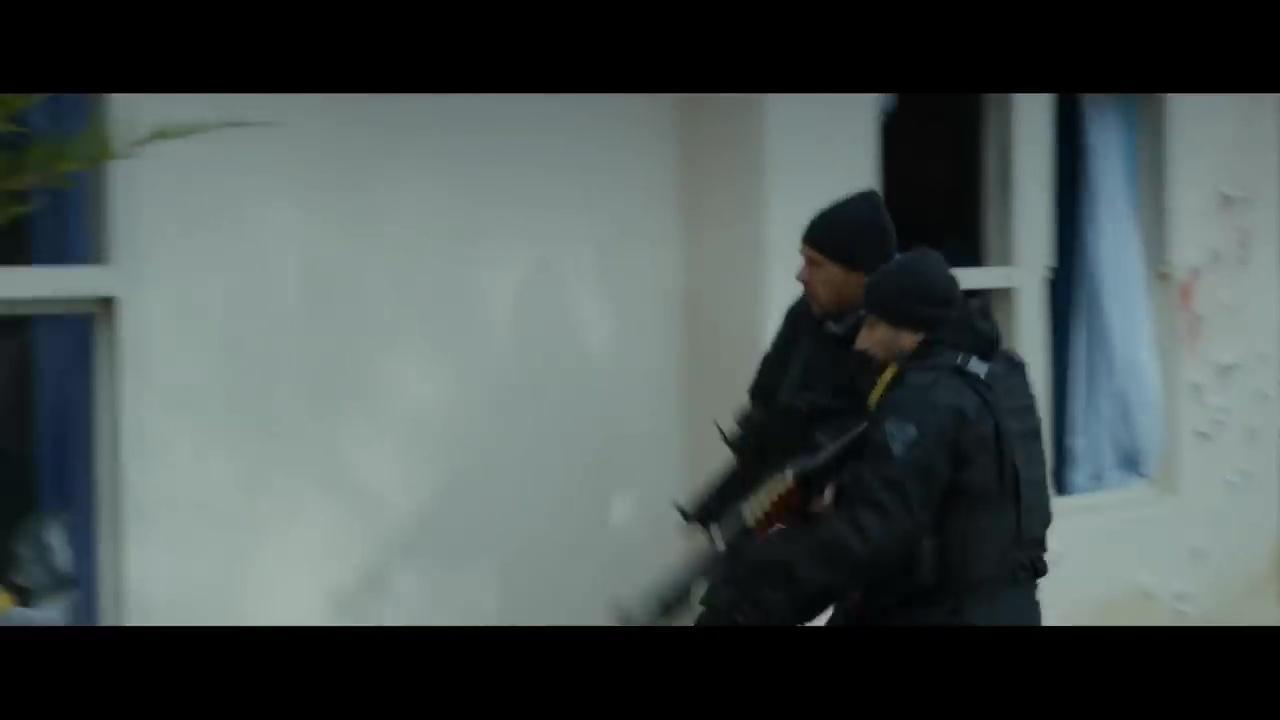Gun: (643, 417, 881, 626)
